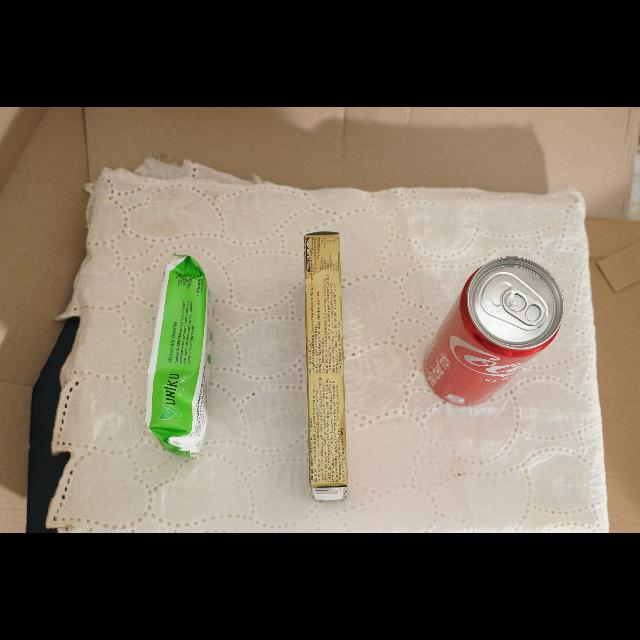banh_toppo_socola: (304, 232, 348, 501)
coca_cola: (425, 258, 564, 406)
khan_giay: (146, 254, 207, 458)
